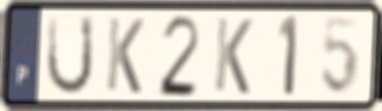1: (276, 13, 300, 99)
2: (157, 13, 201, 99)
5: (319, 14, 362, 99)
K: (103, 14, 146, 97), (212, 15, 255, 97)
U: (44, 13, 96, 99)
